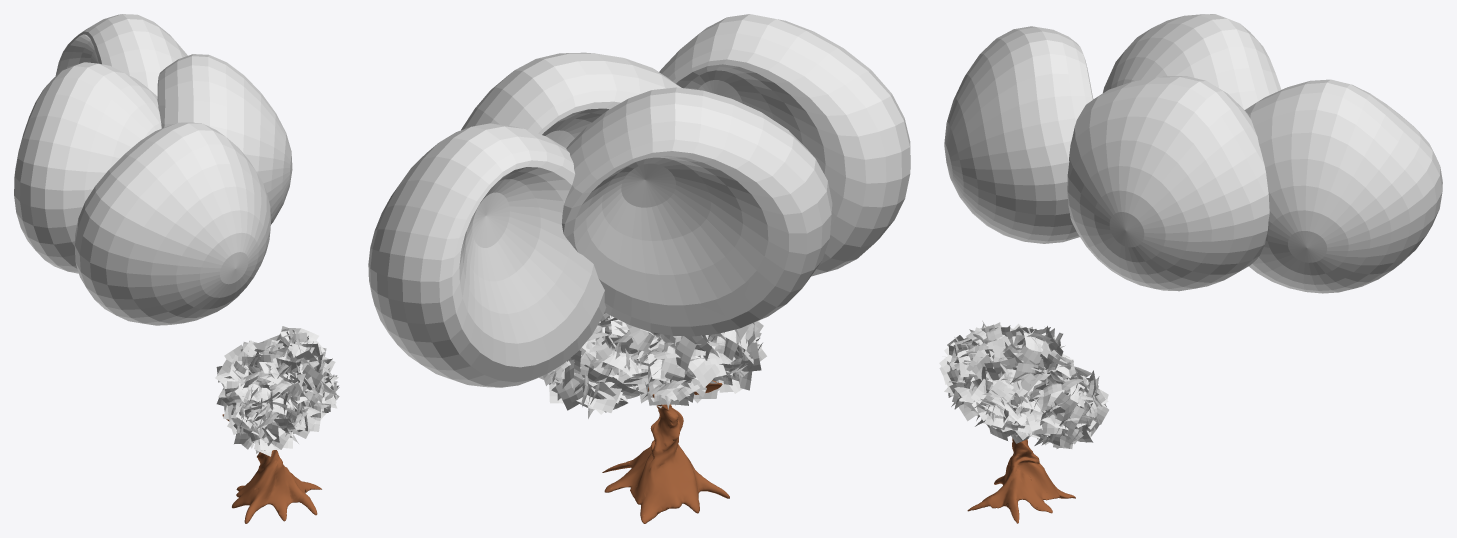
File: tree.fbx
3 renders of one model, left to right at view 1: azimuth 30°, elevation 25°; view 2: azimuth 150°, elevation 25°; view 3: azimuth 270°, elevation 25°, orthographic. The views are drawn at different scales.
Parts seen in each view (by area): view 1: Leafs_backup, Tree_lp; view 2: Leafs_backup, Tree_lp; view 3: Leafs_backup, Tree_lp.
Part boxes in pixels (left/top/right/bottom): Leafs_backup: left=14, top=14, right=292, bottom=325; Tree_lp: left=222, top=414, right=321, bottom=523; Leafs_backup: left=368, top=14, right=910, bottom=387; Tree_lp: left=602, top=380, right=729, bottom=523; Leafs_backup: left=944, top=14, right=1442, bottom=293; Tree_lp: left=967, top=438, right=1075, bottom=523.
Size of the model in its own units: 2035 by 2907 by 3055.
